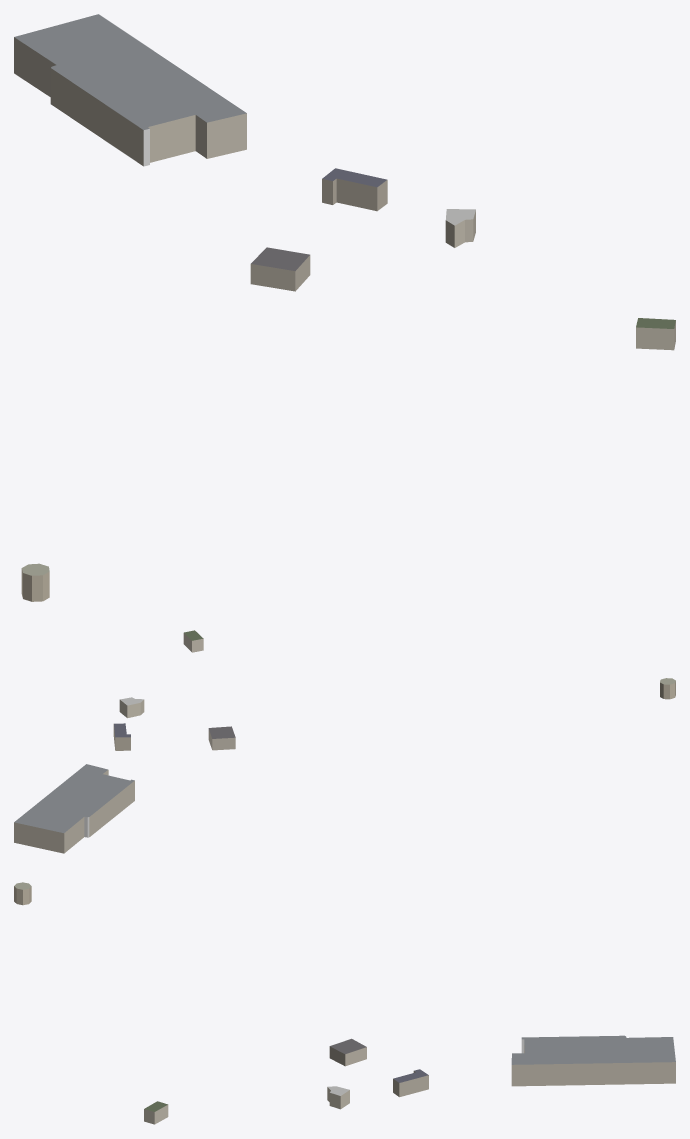
3 views of the same model, one above another, from view 1: azimuth 30°, elevation 25°; view 2: azimuth 150°, elevation 25°; view 3: azimuth 270°, elevation 25° (orthographic). The views are drawn at different scales.
Visible parts, largest first — view 1: tuile; view 2: tuile; view 3: tuile.
Boxes of the visible parts, bbox=[...] form: tuile: bbox=[14, 14, 675, 601]; tuile: bbox=[14, 630, 675, 853]; tuile: bbox=[14, 882, 675, 1124].
Bounding box in the file's own units: 206 × 10.36 × 261.
